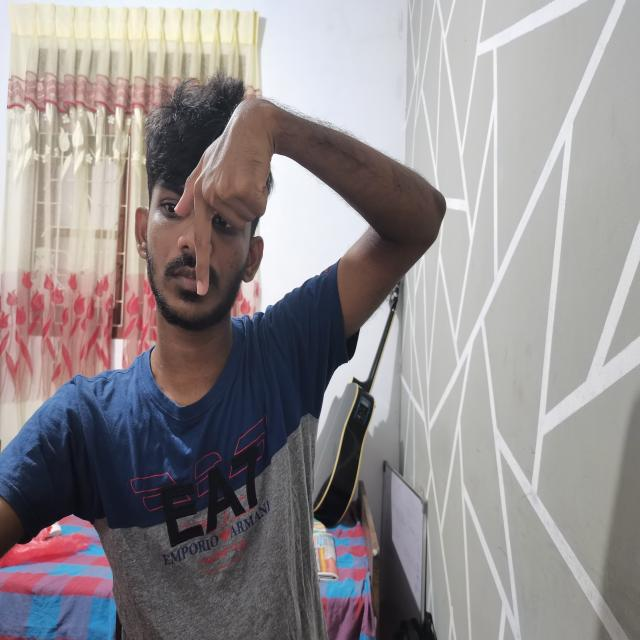Yes: (170, 69, 307, 302)
